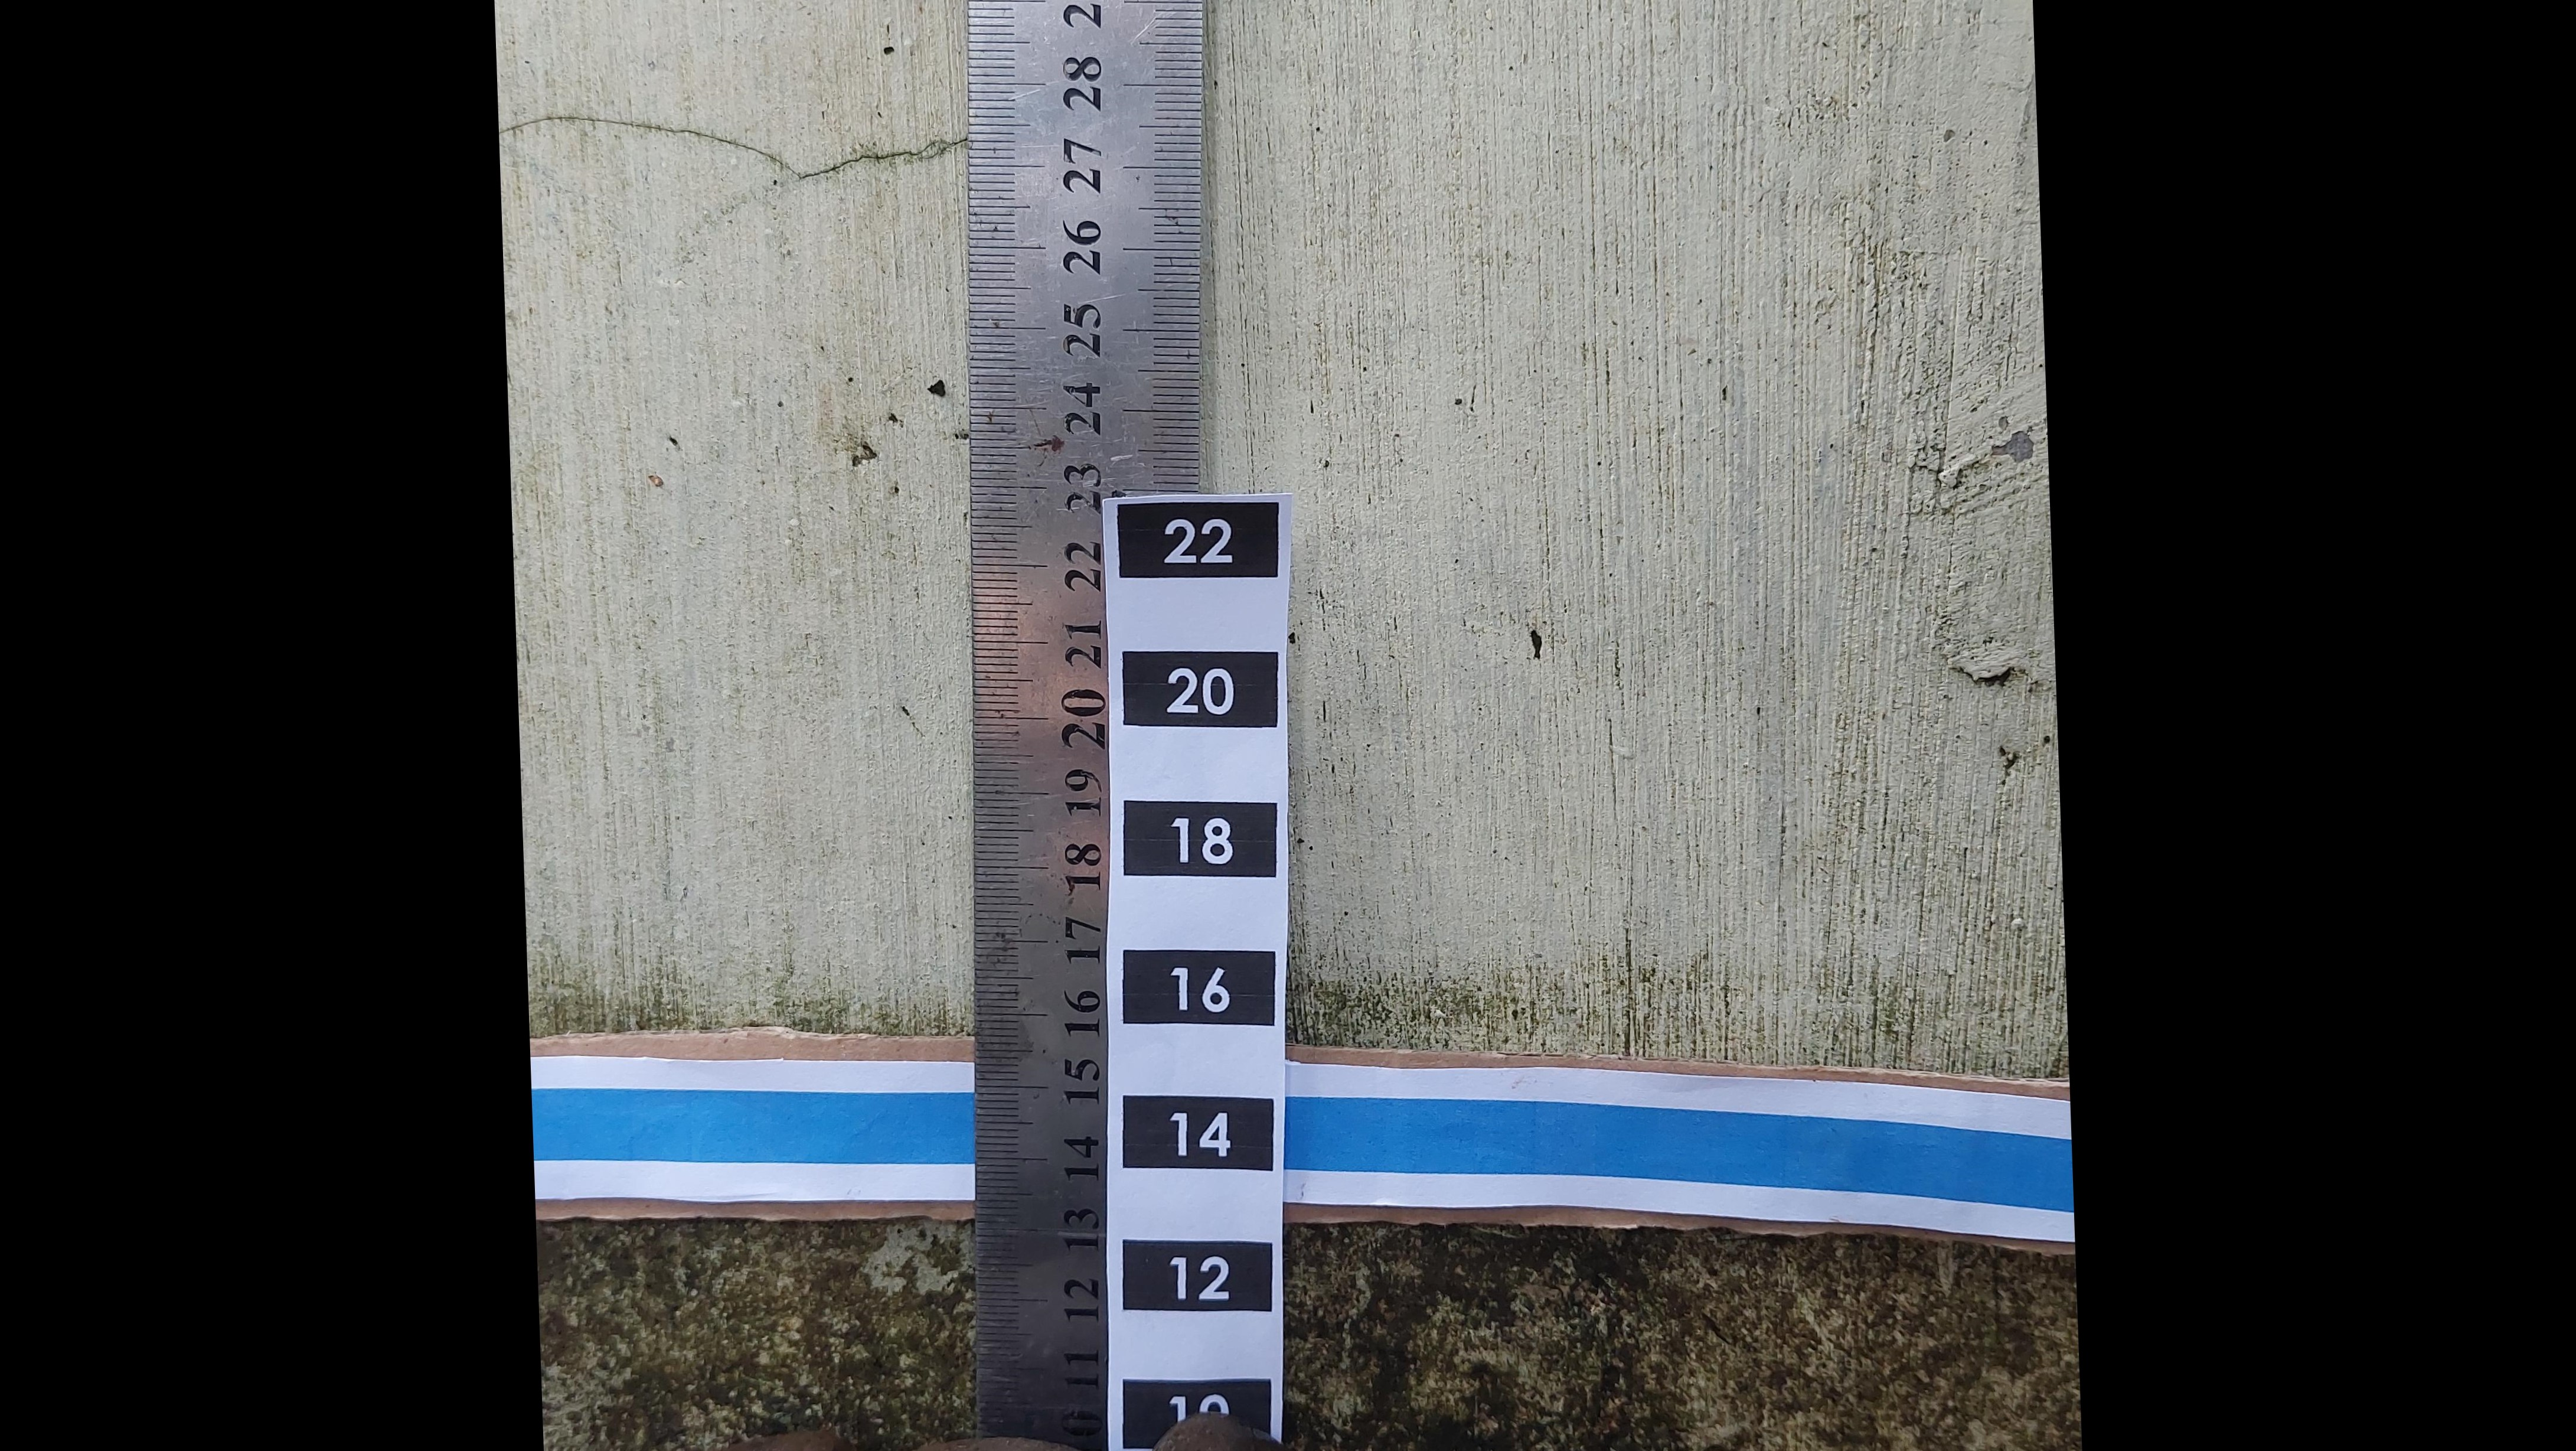kotak_2x1: (1118, 501, 1281, 579), (1122, 948, 1276, 1026), (1122, 800, 1277, 876), (1123, 651, 1277, 727), (1123, 1097, 1274, 1170), (1123, 1240, 1272, 1309)
